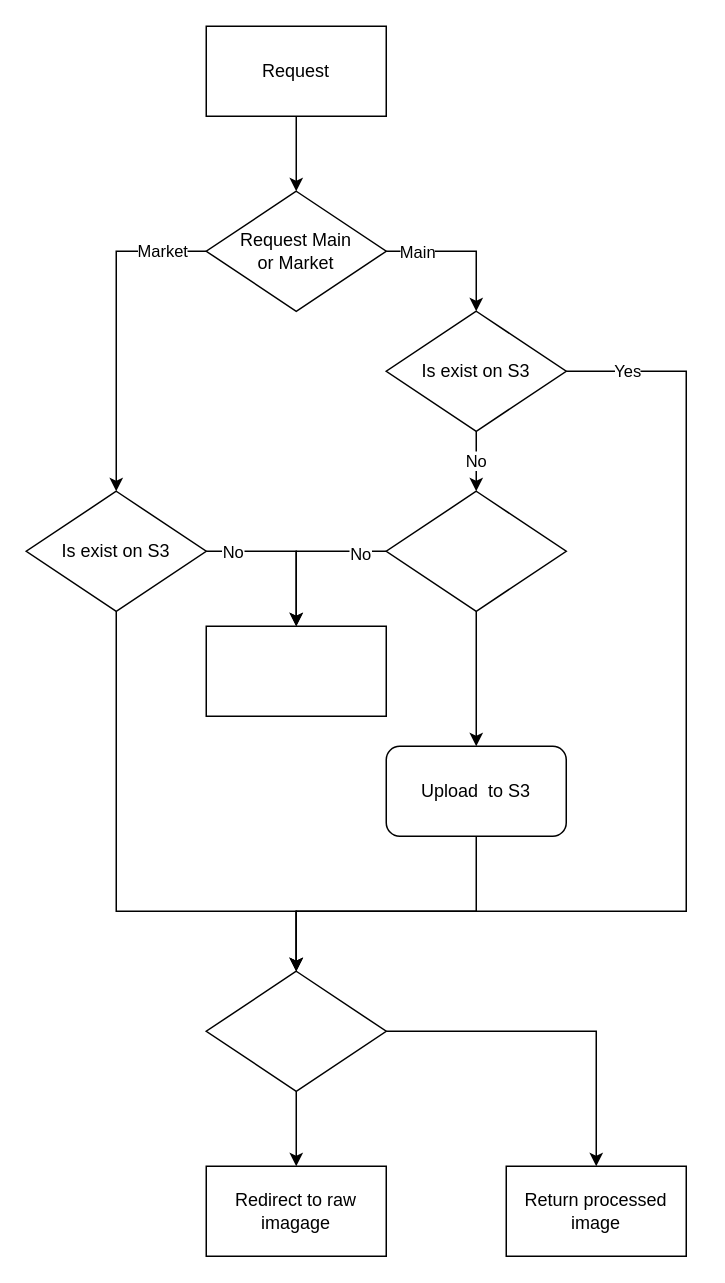
Some shapes in this 725 by 1283 pixel diagram are drawn without their labels. Here are the shapes that lost their labels. From the top down, the box of each, then its label:
(385, 490, 566, 611): Is exist on EFS
(205, 625, 386, 716): return Blank image
(205, 970, 386, 1091): Is args empty
